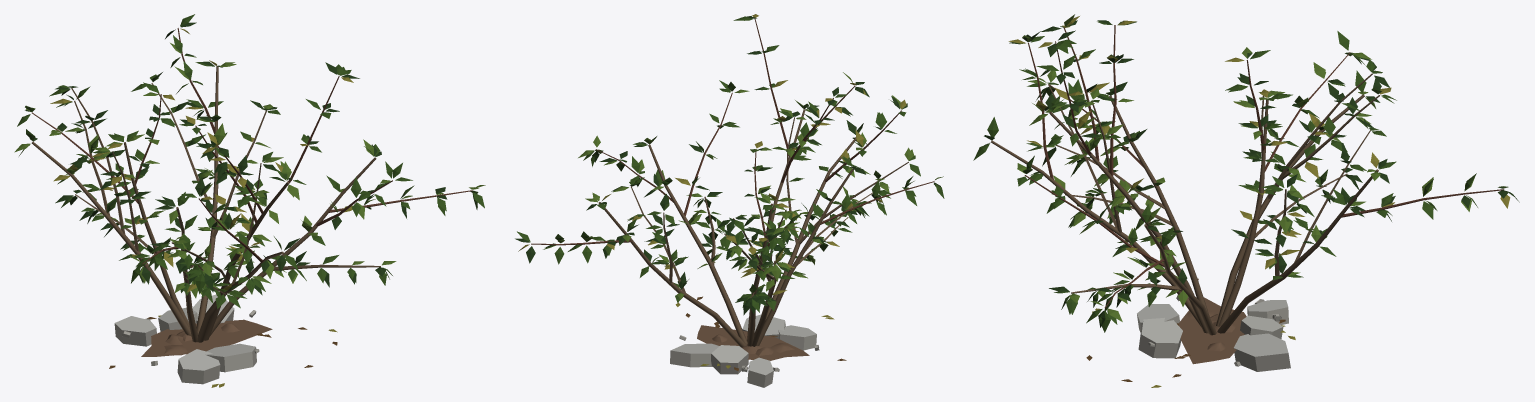
The model's file is shrub_concrete.glb.
3 renders of one model, left to right at view 1: azimuth 30°, elevation 25°; view 2: azimuth 150°, elevation 25°; view 3: azimuth 270°, elevation 25°, orthographic. The views are drawn at different scales.
Visible parts, largest first — view 1: teil6, teil4, teil7, teil8, teil2, teil5, teil3, teil0, teil9, teil1; view 2: teil6, teil4, teil7, teil8, teil2, teil5, teil3, teil9, teil0, teil1; view 3: teil4, teil6, teil7, teil8, teil3, teil5, teil2, teil9, teil0.
Boxes of the visible parts, x1,y1,x2,y2 form: teil6: (17,14,484,308); teil4: (31,66,380,342); teil7: (25,22,477,295); teil8: (14,43,485,298); teil2: (114,309,259,384); teil5: (32,28,472,264); teil3: (115,294,255,370); teil0: (141,319,272,356); teil9: (50,28,353,387); teil1: (164,323,239,355); teil6: (517,16,944,312); teil4: (598,109,908,347); teil7: (515,16,940,315); teil8: (543,72,943,298); teil2: (670,317,819,387); teil5: (531,19,934,246); teil3: (670,314,816,375); teil9: (518,14,906,368); teil0: (697,325,809,360); teil1: (712,334,794,355); teil4: (991,73,1379,335); teil6: (973,21,1508,332); teil7: (984,20,1519,327); teil8: (1017,14,1474,321); teil3: (1137,300,1288,356); teil5: (1024,25,1504,308); teil2: (1137,295,1290,371); teil9: (1008,16,1510,387); teil0: (1178,297,1246,364).
Bounding box in the file's own units: 1.94 × 1.56 × 2.22.
